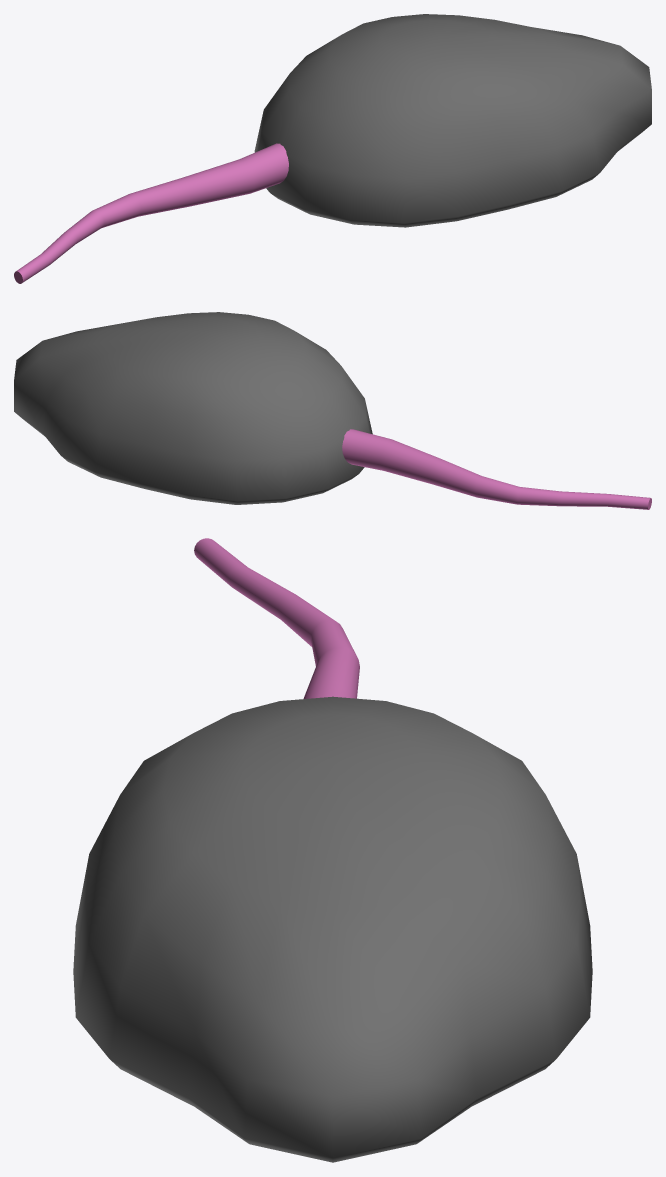
The model's file is Mice.FBX.
The picture shows the model from 3 angles, top to bottom: view 1: azimuth 30°, elevation 25°; view 2: azimuth 150°, elevation 25°; view 3: azimuth 270°, elevation 25°; orthographic projection. The views are drawn at different scales.
Visible parts, largest first — view 1: Sphere001, Cylinder001; view 2: Sphere001, Cylinder001; view 3: Sphere001, Cylinder001.
Boxes of the visible parts, x1,y1,x2,y2 form: Sphere001: (254, 14, 651, 227); Cylinder001: (14, 143, 288, 283); Sphere001: (14, 312, 372, 504); Cylinder001: (342, 429, 651, 509); Sphere001: (73, 696, 592, 1162); Cylinder001: (194, 538, 359, 698).
Bounding box in the file's own units: 124 × 22.71 × 46.26.
2 materials, 2 textured.
